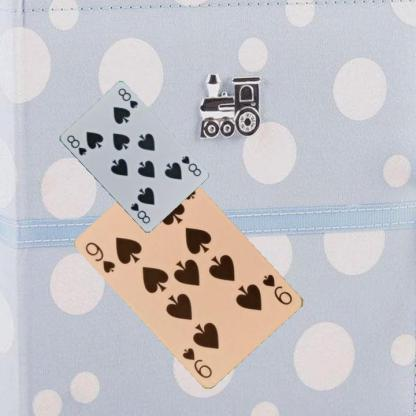8s: (64, 132, 88, 157), (178, 153, 202, 177)
9s: (260, 272, 294, 306), (83, 240, 117, 274)
